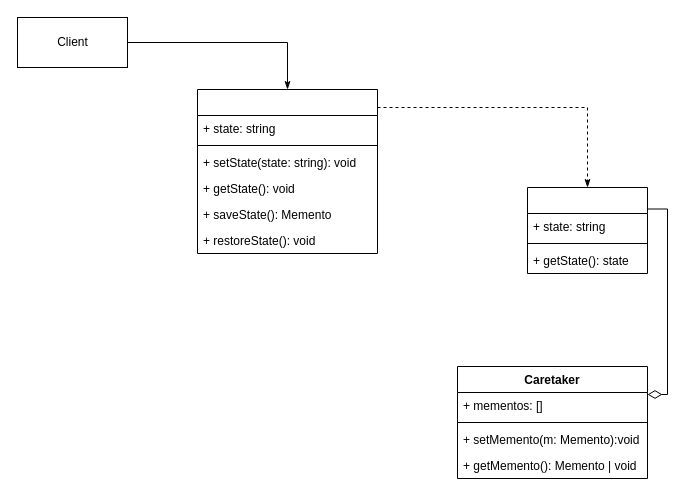
Some shapes in this 699 by 499 pixel diagram are drawn without their labels. The box of each missing label's shape, as (x1, y1, x2, y2) in pixels:
Memento: (526, 186, 648, 274)
Originator: (196, 88, 378, 254)
